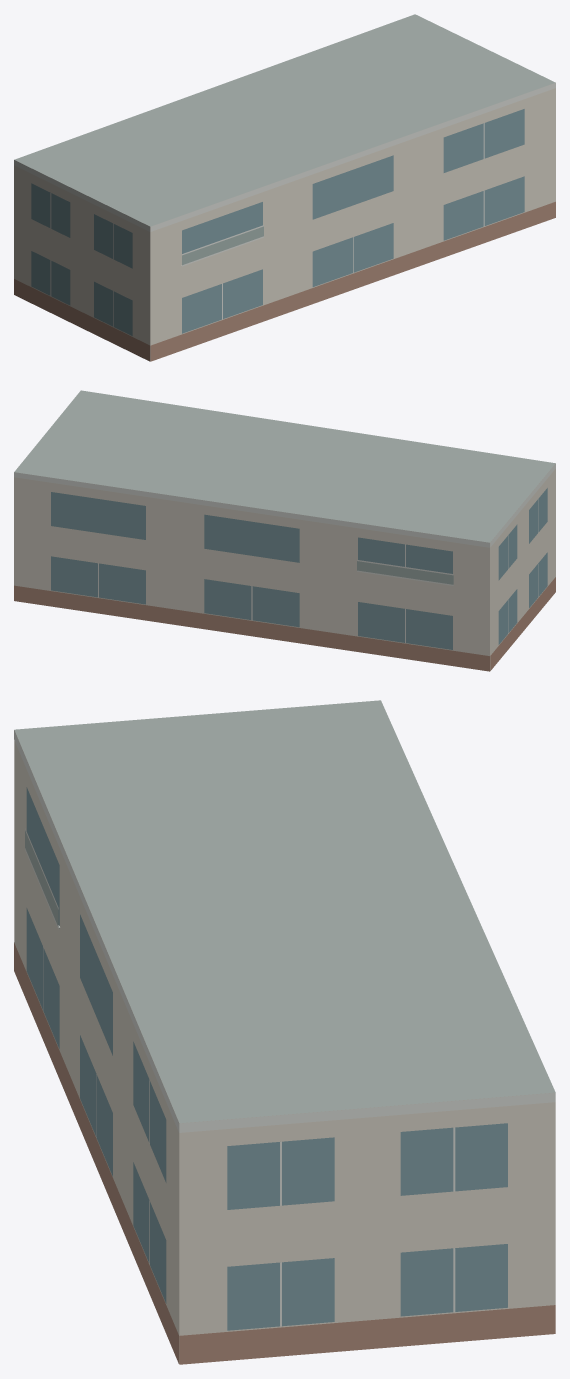
The model's file is survey-upis-32908903.glb.
The picture shows the model from 3 angles, top to bottom: view 1: azimuth 30°, elevation 25°; view 2: azimuth 150°, elevation 25°; view 3: azimuth 270°, elevation 25°; orthographic projection. The views are drawn at different scales.
Parts seen in each view (by area): view 1: survey-upis-32908903.tmp; view 2: survey-upis-32908903.tmp; view 3: survey-upis-32908903.tmp.
Boxes of the visible parts, left/top/right/bottom form: survey-upis-32908903.tmp: left=14, top=14, right=555, bottom=361; survey-upis-32908903.tmp: left=14, top=390, right=555, bottom=671; survey-upis-32908903.tmp: left=14, top=700, right=555, bottom=1364.
Bounding box in the file's own units: 22.95 × 6.1 × 12.42.
